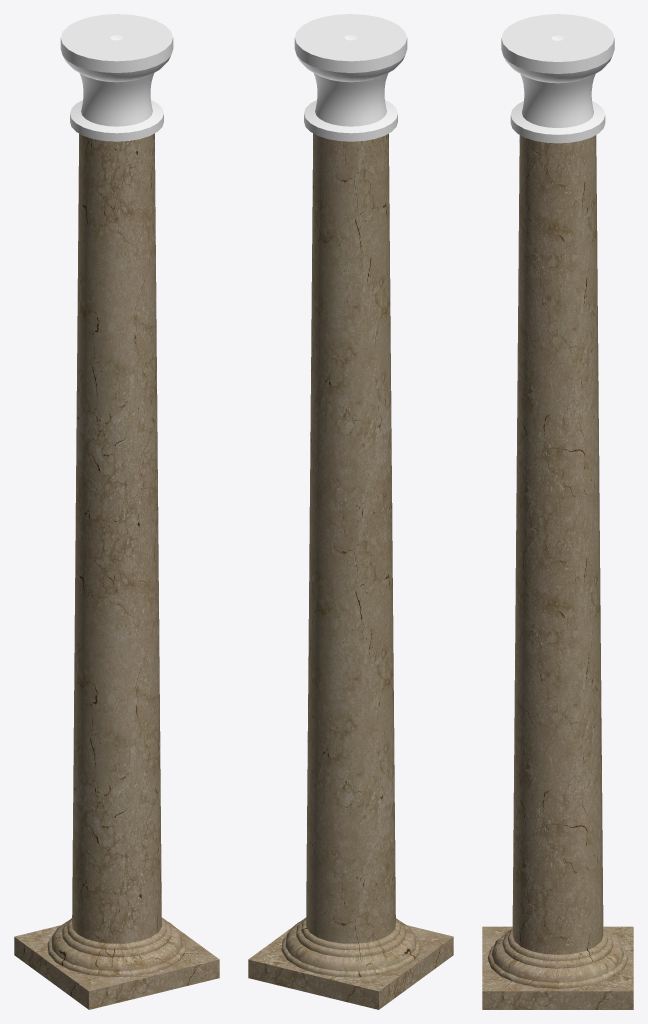
File: pasted__column_in_temple72.fbx
3 renders of one model, left to right at view 1: azimuth 30°, elevation 25°; view 2: azimuth 150°, elevation 25°; view 3: azimuth 270°, elevation 25°, orthographic.
Visible parts, largest first — view 1: pasted__stone_column_553, pasted__gold_109, pasted__stone_column_552; view 2: pasted__stone_column_553, pasted__gold_109, pasted__stone_column_552; view 3: pasted__stone_column_553, pasted__gold_109, pasted__stone_column_552.
Part boxes in pixels (bbox=[...]): pasted__stone_column_553: bbox=[47, 133, 186, 977]; pasted__gold_109: bbox=[60, 14, 173, 141]; pasted__stone_column_552: bbox=[14, 917, 219, 1009]; pasted__stone_column_553: bbox=[281, 133, 420, 977]; pasted__gold_109: bbox=[294, 14, 407, 141]; pasted__stone_column_552: bbox=[248, 917, 453, 1009]; pasted__stone_column_553: bbox=[487, 135, 628, 988]; pasted__gold_109: bbox=[501, 14, 614, 143]; pasted__stone_column_552: bbox=[482, 926, 633, 1009].
Size of the model in its own units: 27.73 by 27.53 by 188.
